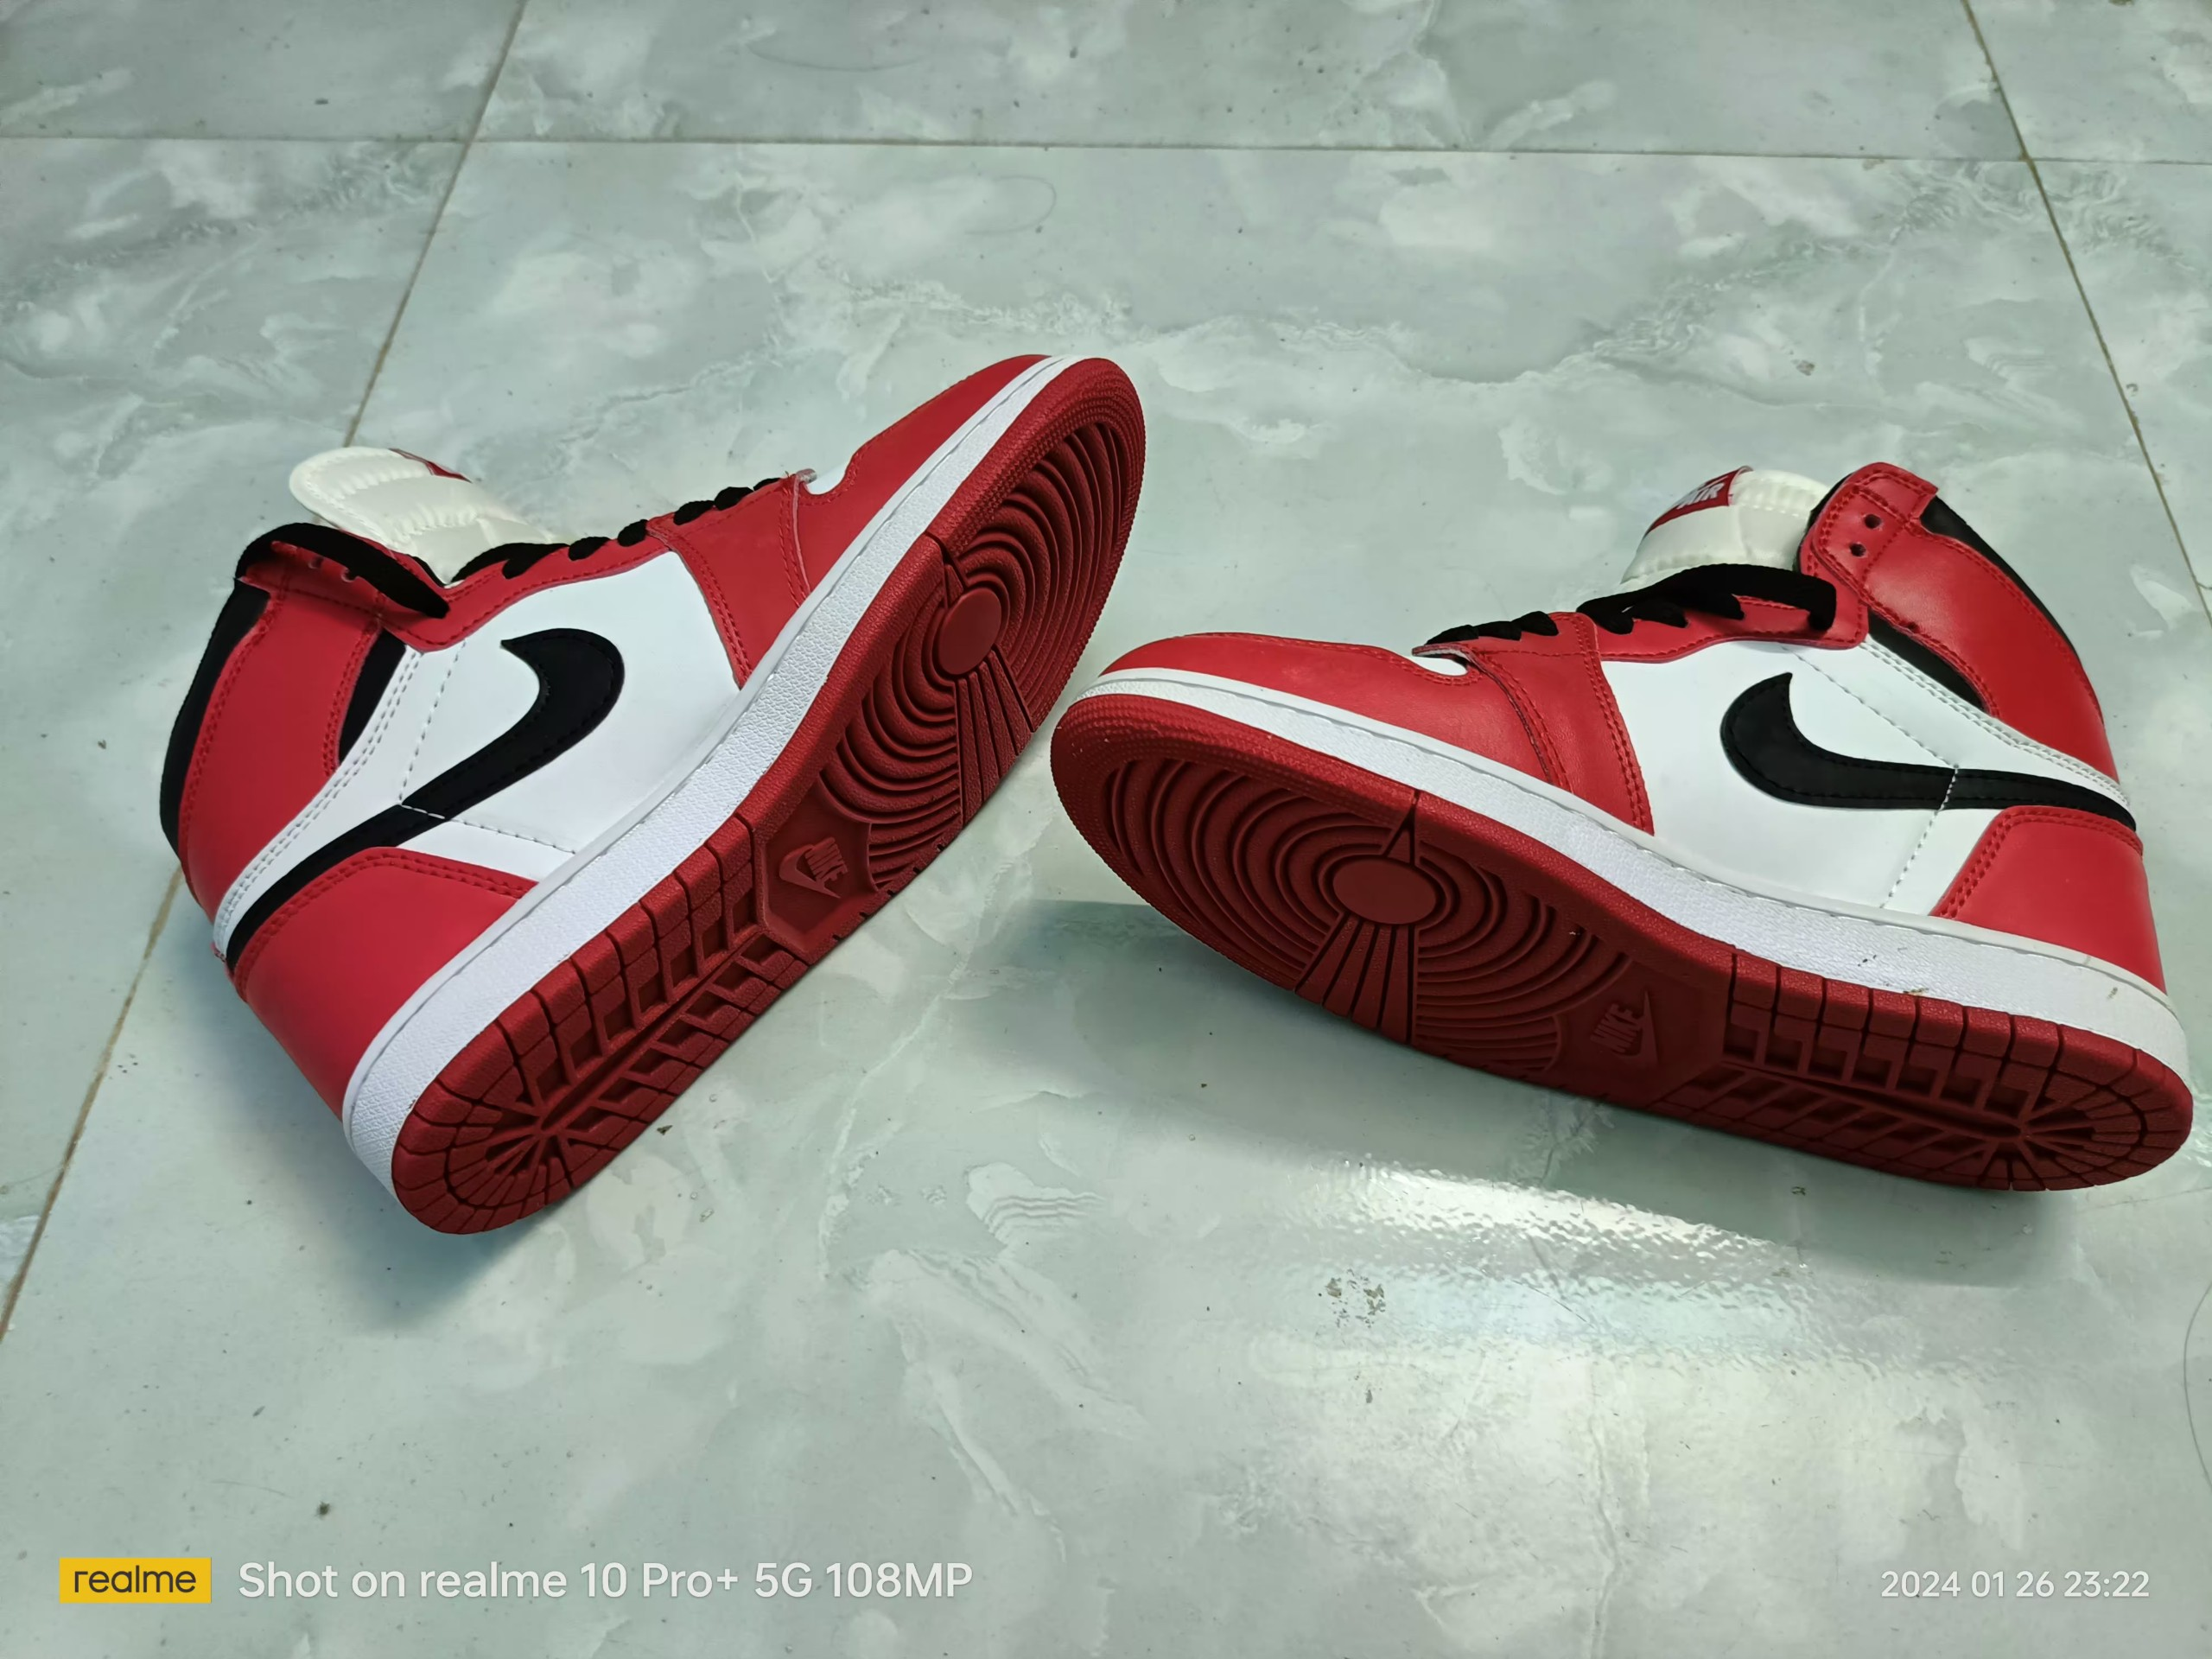sneakers: (150, 342, 1151, 1239), (1043, 457, 2191, 1195)
